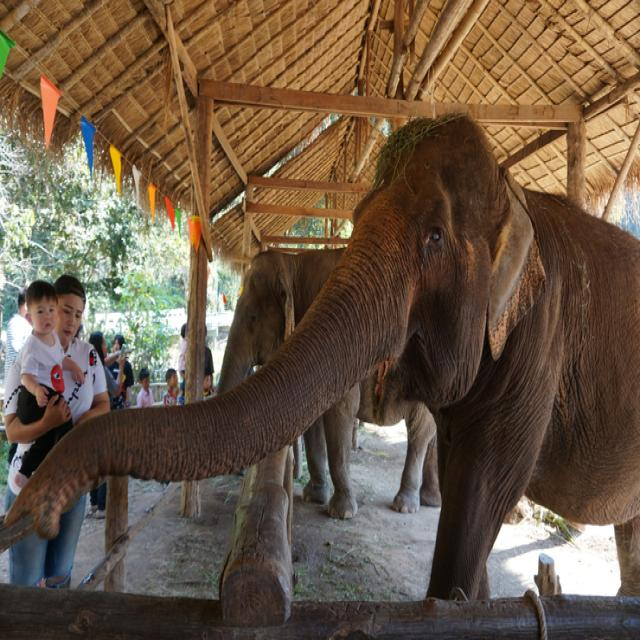Elephant: (17, 78, 640, 601), (203, 188, 440, 624)
